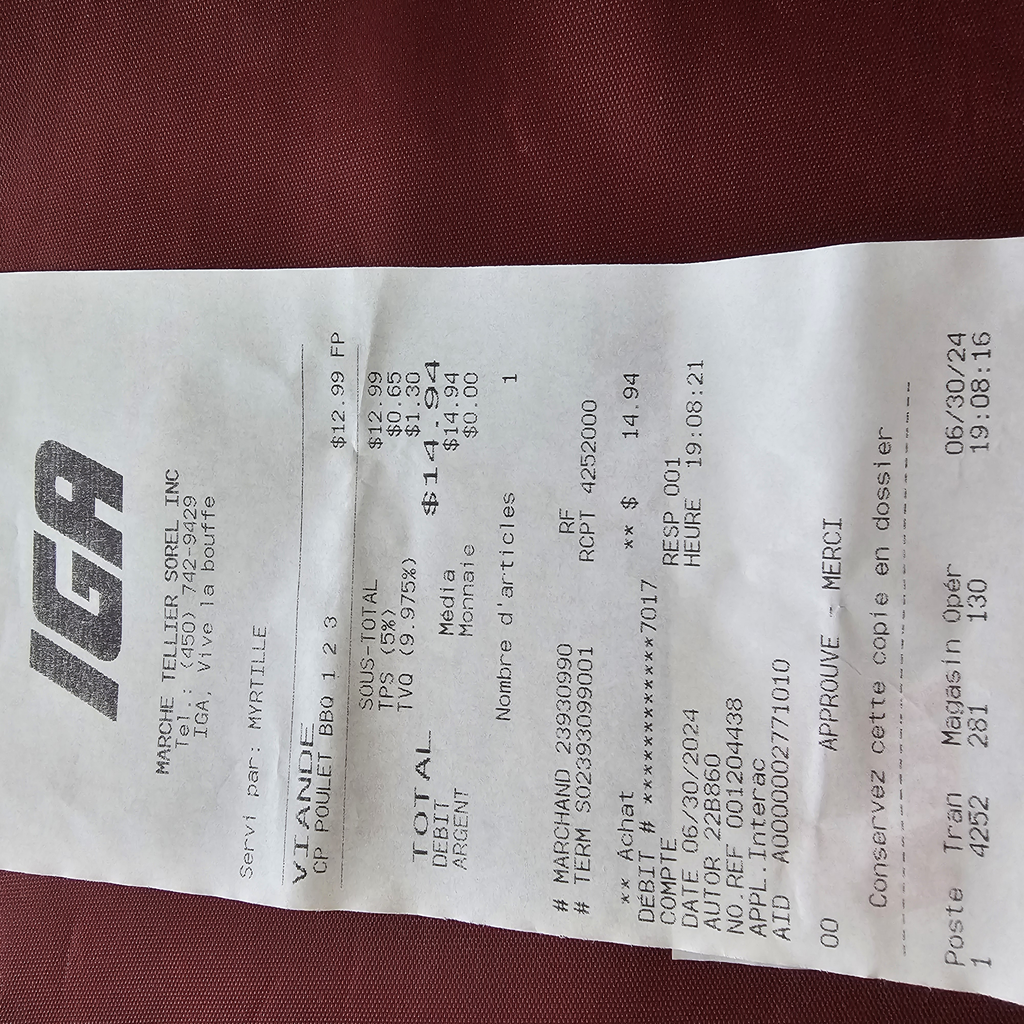recipt: (2, 237, 1022, 1007)
